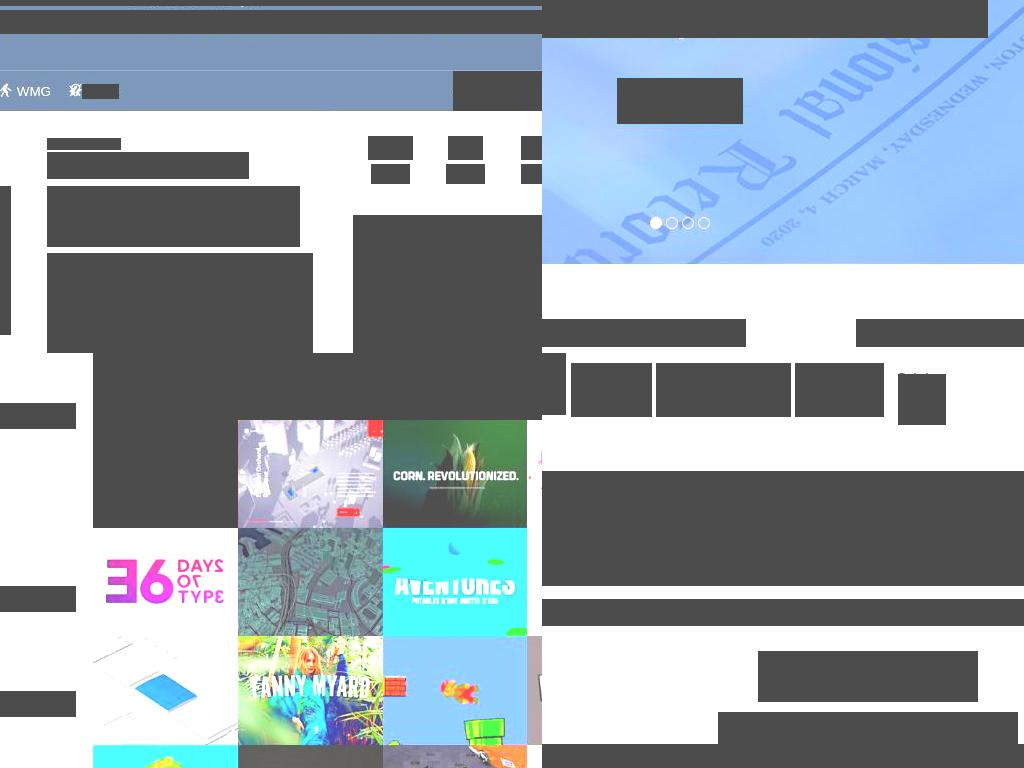button: (237, 527, 383, 637), (382, 527, 528, 637), (93, 527, 238, 637), (237, 419, 383, 528), (382, 419, 528, 528), (237, 636, 383, 745), (382, 636, 528, 745), (93, 419, 238, 528), (93, 636, 238, 745), (758, 651, 978, 702), (237, 353, 383, 420), (382, 353, 528, 420), (93, 353, 238, 420), (656, 363, 791, 417), (617, 78, 743, 124), (795, 363, 884, 417), (571, 363, 652, 417), (758, 668, 978, 684), (237, 744, 383, 768), (382, 744, 528, 768), (93, 744, 238, 768)
heading: (542, 471, 1024, 586), (542, 0, 988, 38), (0, 10, 542, 34), (812, 536, 1024, 586), (542, 319, 746, 347), (47, 152, 249, 179), (856, 319, 1024, 347), (0, 403, 76, 429), (0, 586, 76, 612), (0, 691, 76, 717)
image: (237, 527, 383, 637), (382, 527, 528, 637), (93, 527, 238, 637), (237, 419, 383, 528), (382, 419, 528, 528), (237, 636, 383, 745), (382, 636, 528, 745), (93, 419, 238, 528), (93, 636, 238, 745), (237, 353, 383, 420), (382, 353, 528, 420), (93, 353, 238, 420), (237, 744, 383, 768), (382, 744, 528, 768), (93, 744, 238, 768), (371, 164, 410, 184), (446, 164, 485, 184), (521, 164, 542, 184)
link: (898, 374, 946, 425), (66, 230, 146, 247)
text: (47, 253, 313, 353), (353, 215, 542, 353), (47, 186, 300, 247), (542, 599, 1024, 626), (718, 712, 1018, 754), (453, 71, 542, 111), (0, 0, 542, 6), (368, 136, 413, 160), (47, 138, 121, 150), (448, 136, 483, 160), (12, 84, 51, 99), (82, 84, 119, 99), (521, 136, 542, 160), (145, 230, 151, 247)
